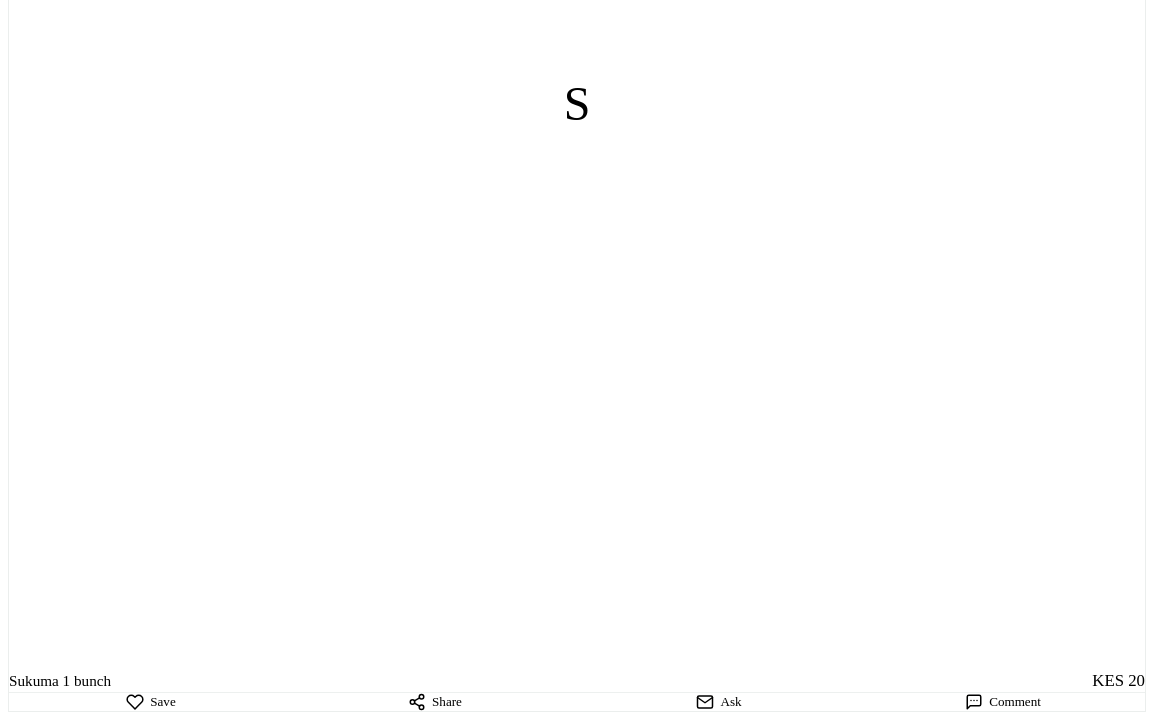
Scenario: ProductCard — engagement bar › toggles save and reflects the server count
The image size is (1152, 720).
(page scrolled)
Click the button with test id "save-btn" at {"x": 151, "y": 702}, box x1=9 y1=692 x2=293 y2=710
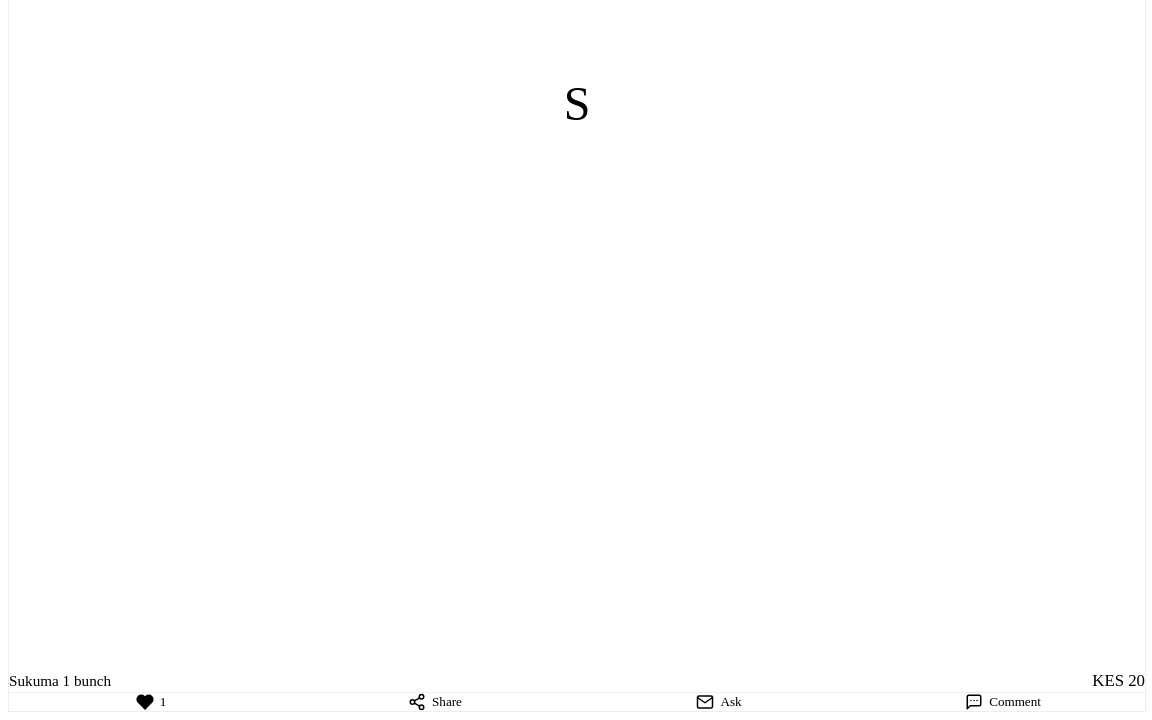
Result: the button with test id "save-btn" reads "1" at x1=9 y1=692 x2=293 y2=710
